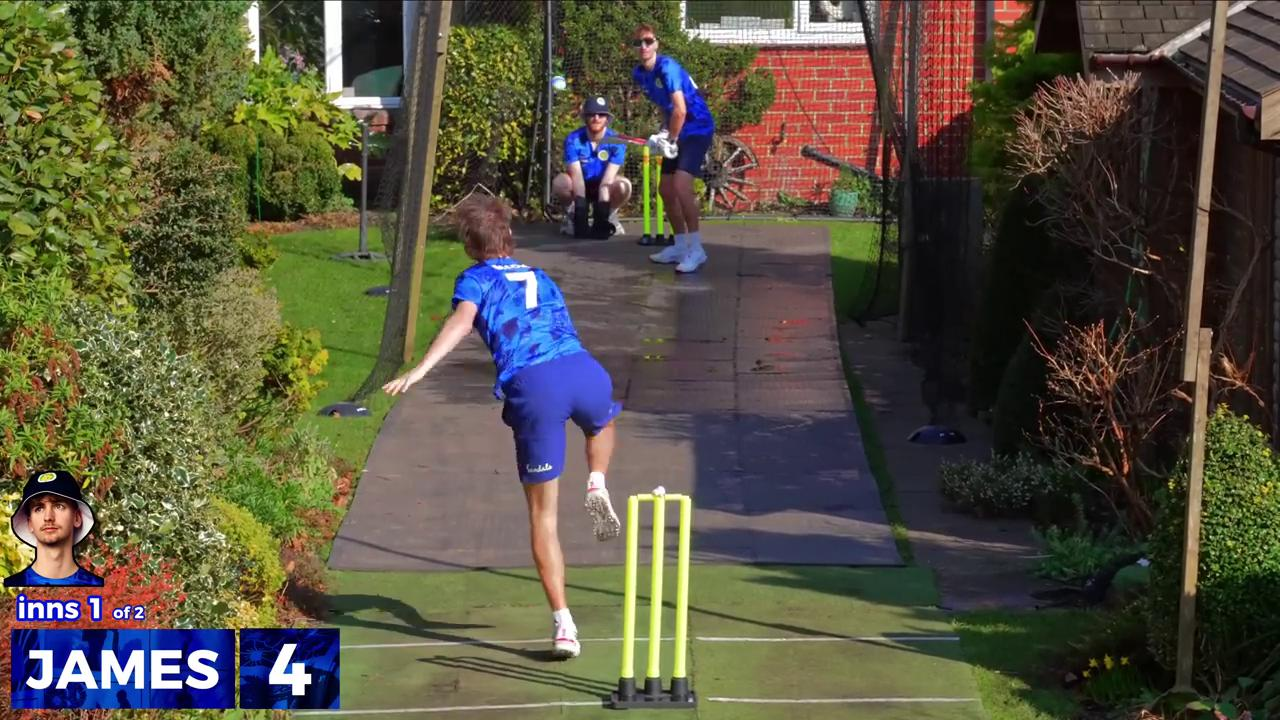ball: (540, 66, 577, 102)
